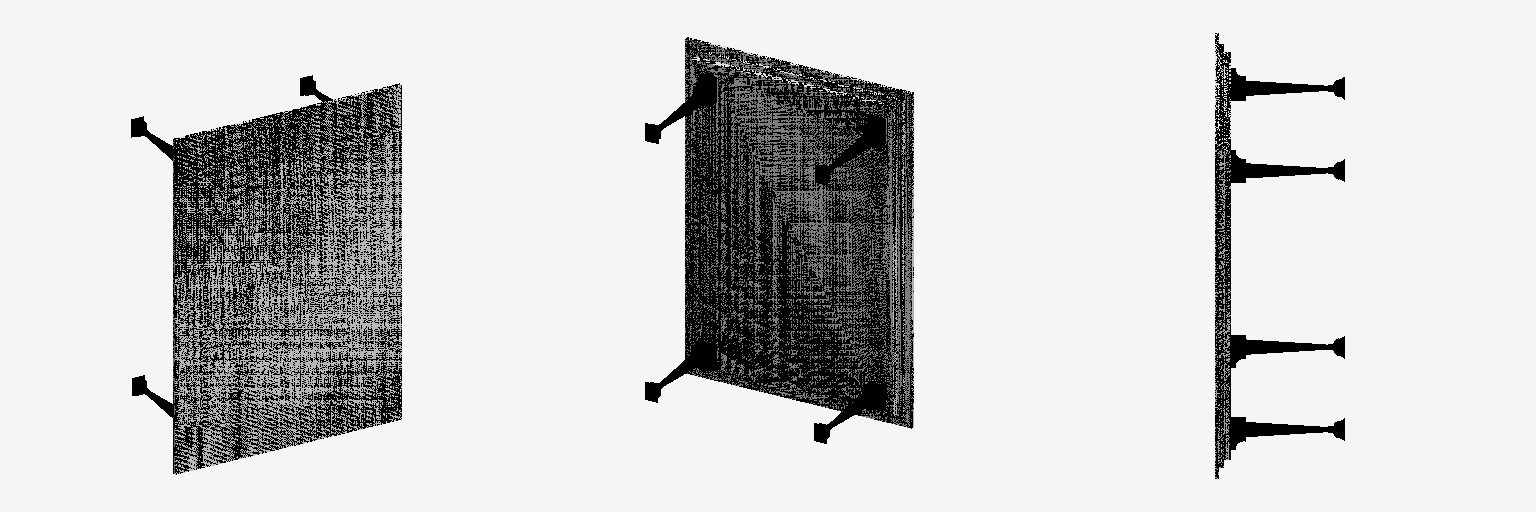
3 views of the same model, side by side, from view 1: azimuth 30°, elevation 25°; view 2: azimuth 150°, elevation 25°; view 3: azimuth 270°, elevation 25° (orthographic).
Parts seen in each view (by area): view 1: bb00ad069df73df5d1f943907d4f35fc; view 2: bb00ad069df73df5d1f943907d4f35fc; view 3: bb00ad069df73df5d1f943907d4f35fc.
Boxes of the visible parts, x1=… form: bb00ad069df73df5d1f943907d4f35fc: x1=131, y1=75, x2=401, y2=474; bb00ad069df73df5d1f943907d4f35fc: x1=645, y1=37, x2=913, y2=443; bb00ad069df73df5d1f943907d4f35fc: x1=1215, y1=33, x2=1344, y2=478.
Size of the model in its own units: 1.17 by 1.65 by 0.5824.